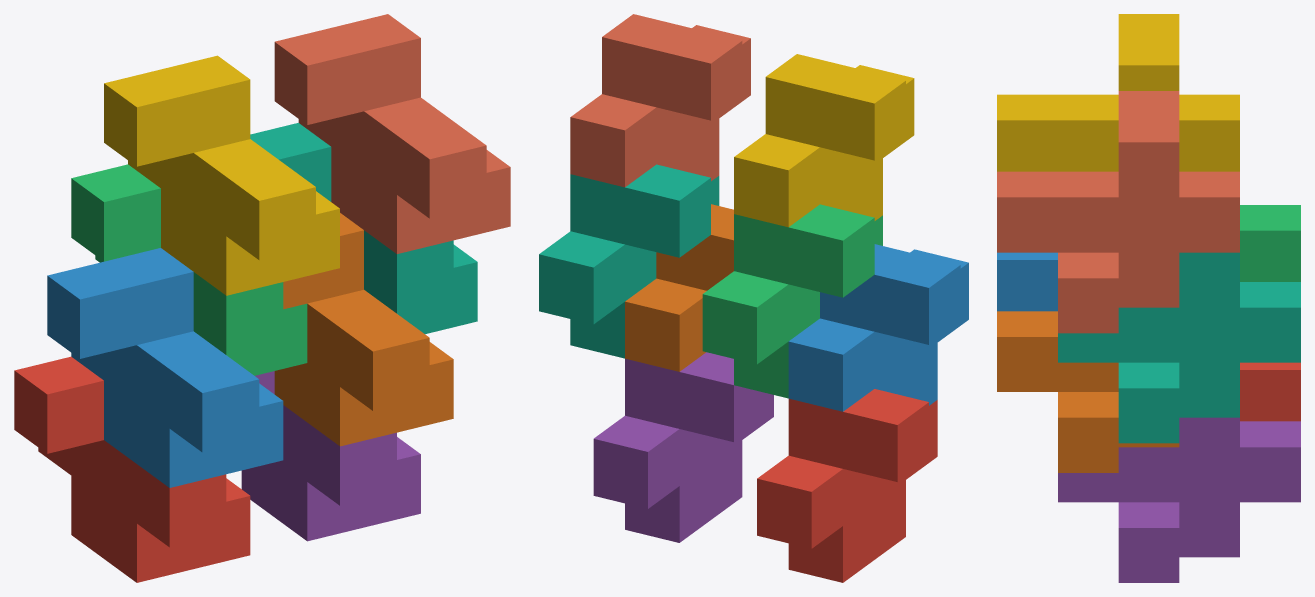
Rendered from tiling.obj.
3 views of the same model, side by side, from view 1: azimuth 30°, elevation 25°; view 2: azimuth 150°, elevation 25°; view 3: azimuth 270°, elevation 25° (orthographic). The views are drawn at different scales.
Parts seen in each view (by area): view 1: copy_1_domain_2, copy_1_domain_8, copy_1_domain_4, copy_1_domain_1, copy_1_domain_6, copy_1_domain_3, copy_1_domain_5, copy_1_domain_7; view 2: copy_1_domain_1, copy_1_domain_5, copy_1_domain_8, copy_1_domain_4, copy_1_domain_2, copy_1_domain_3, copy_1_domain_7, copy_1_domain_6; view 3: copy_1_domain_8, copy_1_domain_7, copy_1_domain_5, copy_1_domain_4, copy_1_domain_6, copy_1_domain_3, copy_1_domain_1, copy_1_domain_2.
Boxes of the visible parts, left/top/right/bottom form: copy_1_domain_2: left=47, top=248, right=283, bottom=487; copy_1_domain_8: left=274, top=14, right=510, bottom=253; copy_1_domain_4: left=104, top=55, right=339, bottom=295; copy_1_domain_1: left=14, top=356, right=250, bottom=582; copy_1_domain_6: left=274, top=213, right=453, bottom=446; copy_1_domain_3: left=71, top=164, right=307, bottom=375; copy_1_domain_5: left=241, top=371, right=420, bottom=541; copy_1_domain_7: left=250, top=123, right=477, bottom=334; copy_1_domain_1: left=757, top=389, right=937, bottom=582; copy_1_domain_5: left=593, top=352, right=773, bottom=542; copy_1_domain_8: left=570, top=14, right=750, bottom=187; copy_1_domain_4: left=734, top=54, right=914, bottom=227; copy_1_domain_2: left=788, top=244, right=968, bottom=411; copy_1_domain_3: left=702, top=204, right=882, bottom=398; copy_1_domain_7: left=539, top=164, right=719, bottom=358; copy_1_domain_6: left=625, top=204, right=733, bottom=371; copy_1_domain_8: left=997, top=91, right=1239, bottom=333; copy_1_domain_7: left=1058, top=252, right=1300, bottom=443; copy_1_domain_5: left=1058, top=417, right=1300, bottom=582; copy_1_domain_4: left=997, top=14, right=1239, bottom=171; copy_1_domain_6: left=997, top=311, right=1179, bottom=472; copy_1_domain_3: left=1240, top=205, right=1300, bottom=281; copy_1_domain_1: left=1240, top=362, right=1300, bottom=421; copy_1_domain_2: left=997, top=252, right=1057, bottom=311.
Size of the model in its own units: 7 by 8 by 5.
